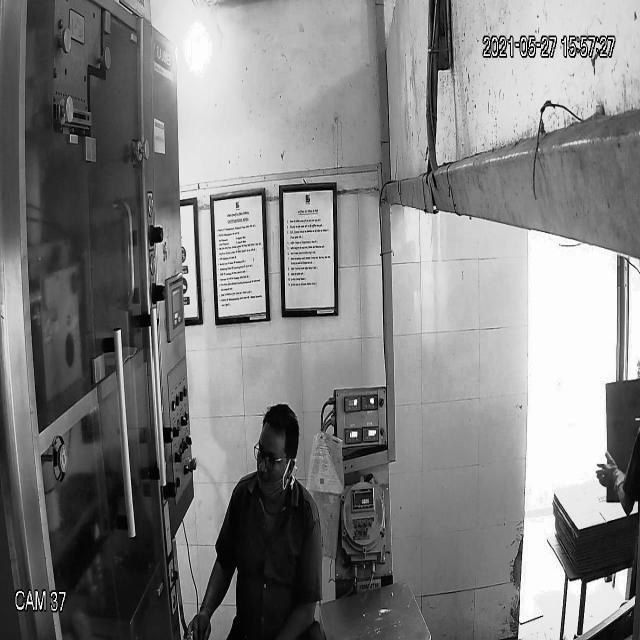glasses: (252, 438, 298, 470)
